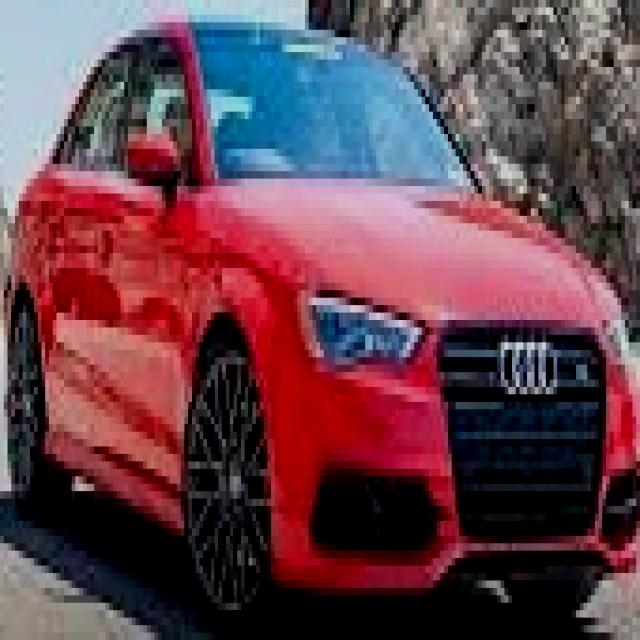red: (0, 7, 636, 640)
